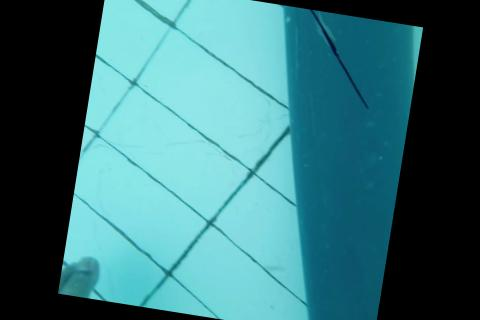keretakan: (288, 8, 385, 111)
